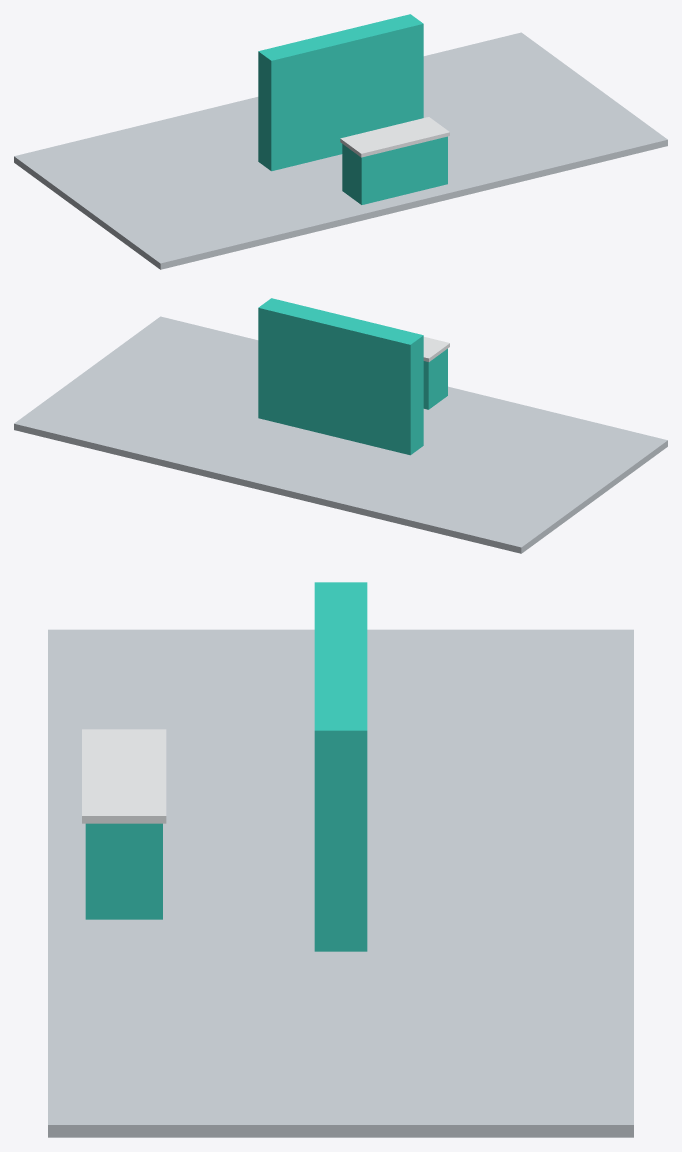
3 views of the same model, one above another, from view 1: azimuth 30°, elevation 25°; view 2: azimuth 150°, elevation 25°; view 3: azimuth 270°, elevation 25° (orthographic). The views are drawn at different scales.
Visible parts, largest first — view 1: Exhibition Booth Concept; view 2: Exhibition Booth Concept; view 3: Exhibition Booth Concept.
Boxes of the visible parts, bbox=[...] form: Exhibition Booth Concept: bbox=[14, 14, 667, 269]; Exhibition Booth Concept: bbox=[14, 298, 667, 553]; Exhibition Booth Concept: bbox=[48, 582, 633, 1137].
Bounding box in the file's own units: 10 × 2.2 × 5.
